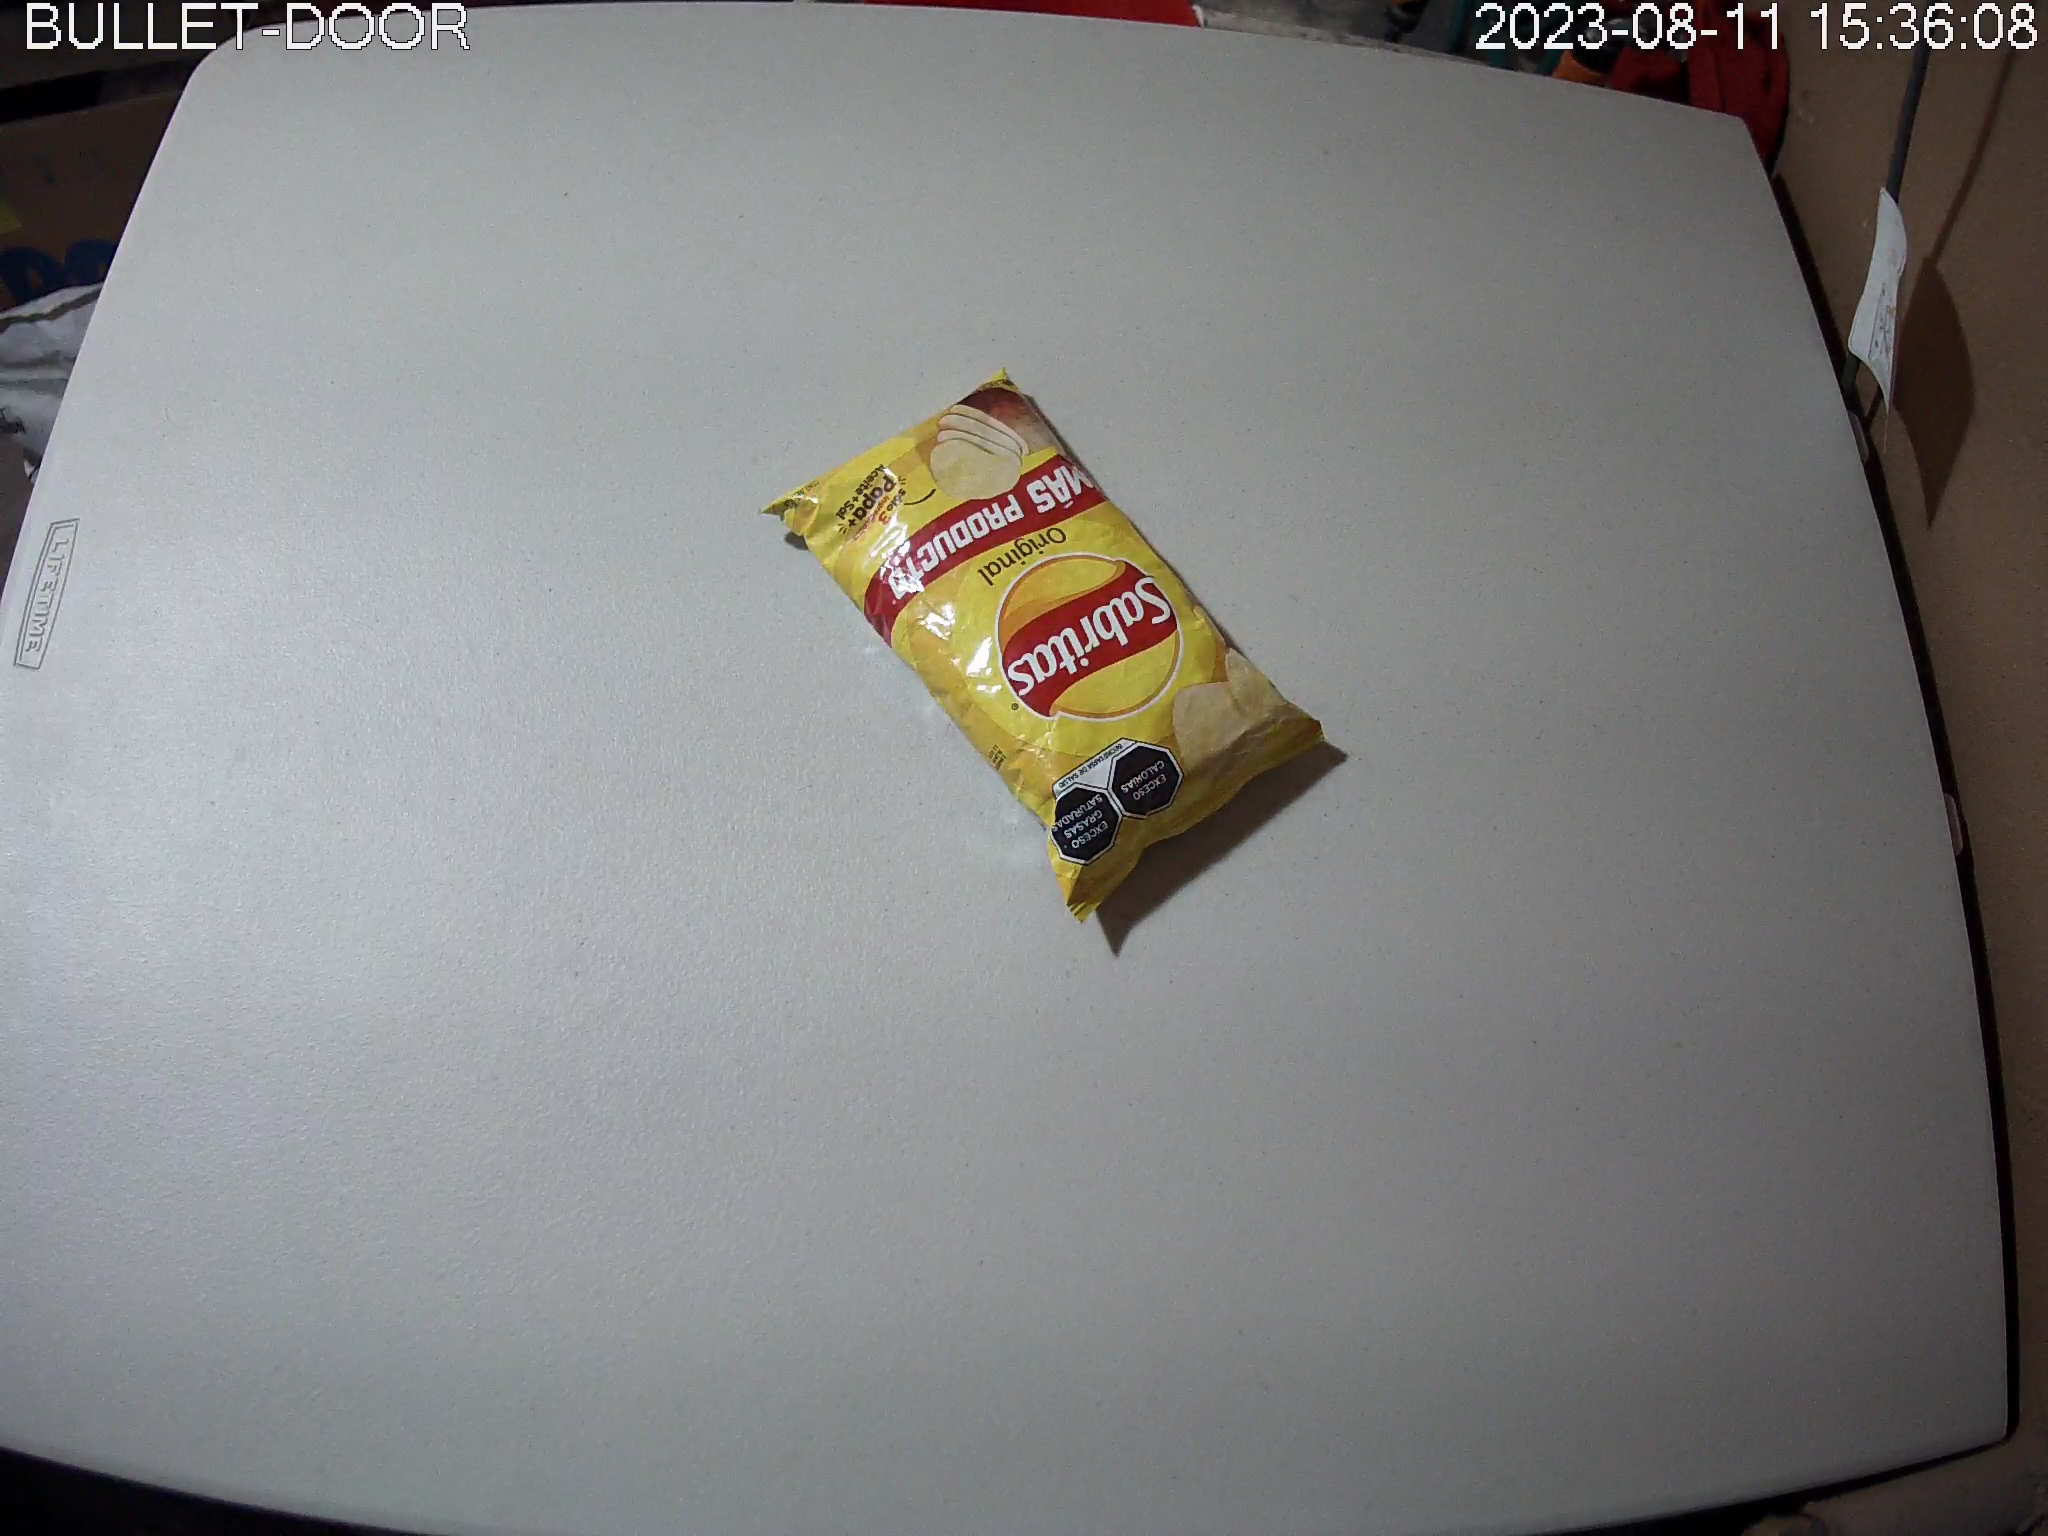Sabritas_45_F: (761, 365, 1329, 923)
